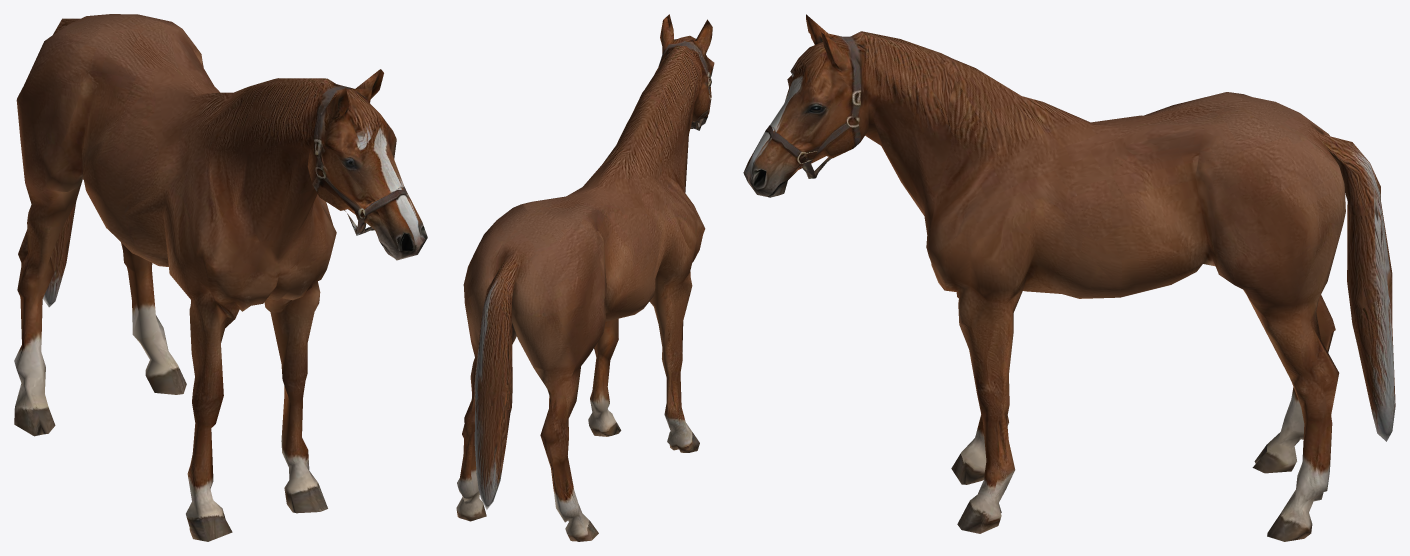
Rendered from animal_horse.glb.
3 renders of one model, left to right at view 1: azimuth 30°, elevation 25°; view 2: azimuth 150°, elevation 25°; view 3: azimuth 270°, elevation 25°, orthographic. The views are drawn at different scales.
Visible parts, largest first — view 1: tripo_node_8c994a6c-ad0a-466e-a314-606cde59f736; view 2: tripo_node_8c994a6c-ad0a-466e-a314-606cde59f736; view 3: tripo_node_8c994a6c-ad0a-466e-a314-606cde59f736.
Part boxes in pixels (bbox=[...]): tripo_node_8c994a6c-ad0a-466e-a314-606cde59f736: bbox=[14, 14, 427, 541]; tripo_node_8c994a6c-ad0a-466e-a314-606cde59f736: bbox=[456, 14, 714, 541]; tripo_node_8c994a6c-ad0a-466e-a314-606cde59f736: bbox=[743, 14, 1395, 541].
Bounding box in the file's own units: 0.2955 × 0.8149 × 0.9794.
Materials: 1 (1 with a texture image).
